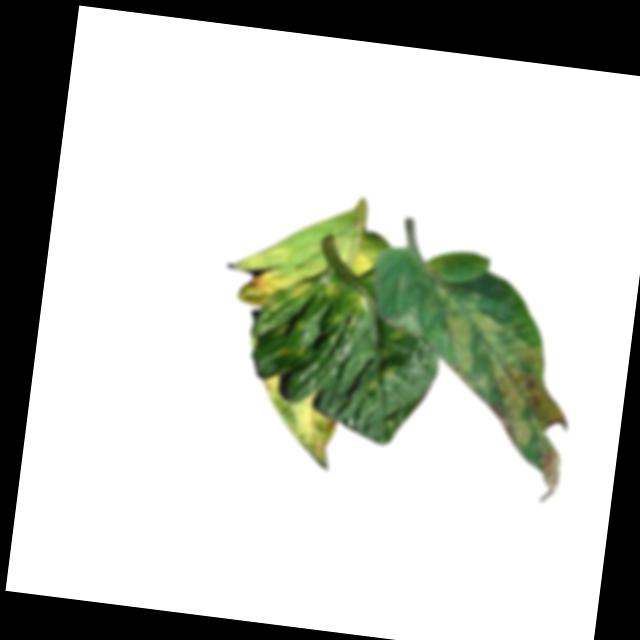Leaf_Mold: (411, 279, 585, 498), (251, 372, 343, 473), (223, 238, 315, 311), (332, 225, 383, 281)
